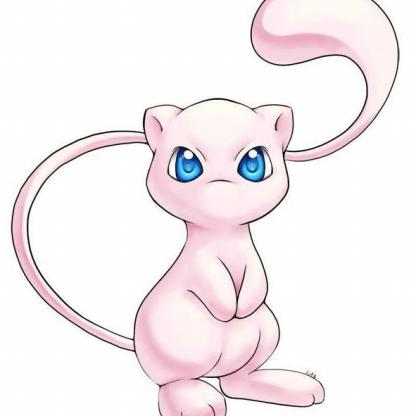Mew: (1, 4, 416, 415)
